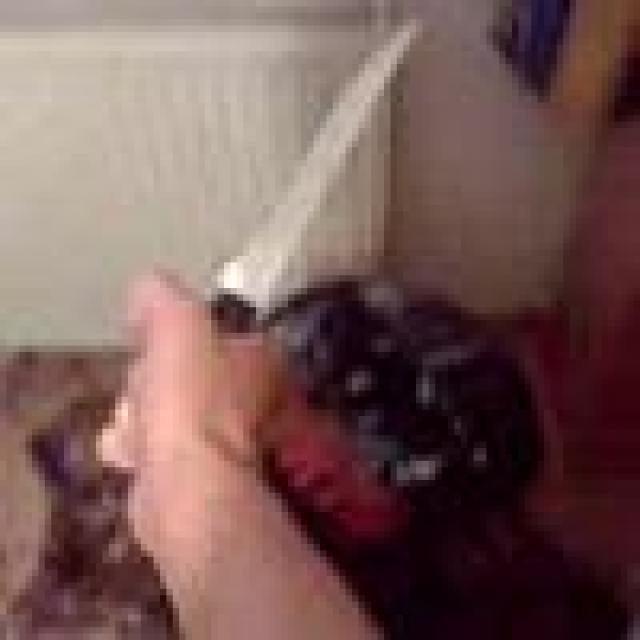knife: (205, 17, 421, 326)
